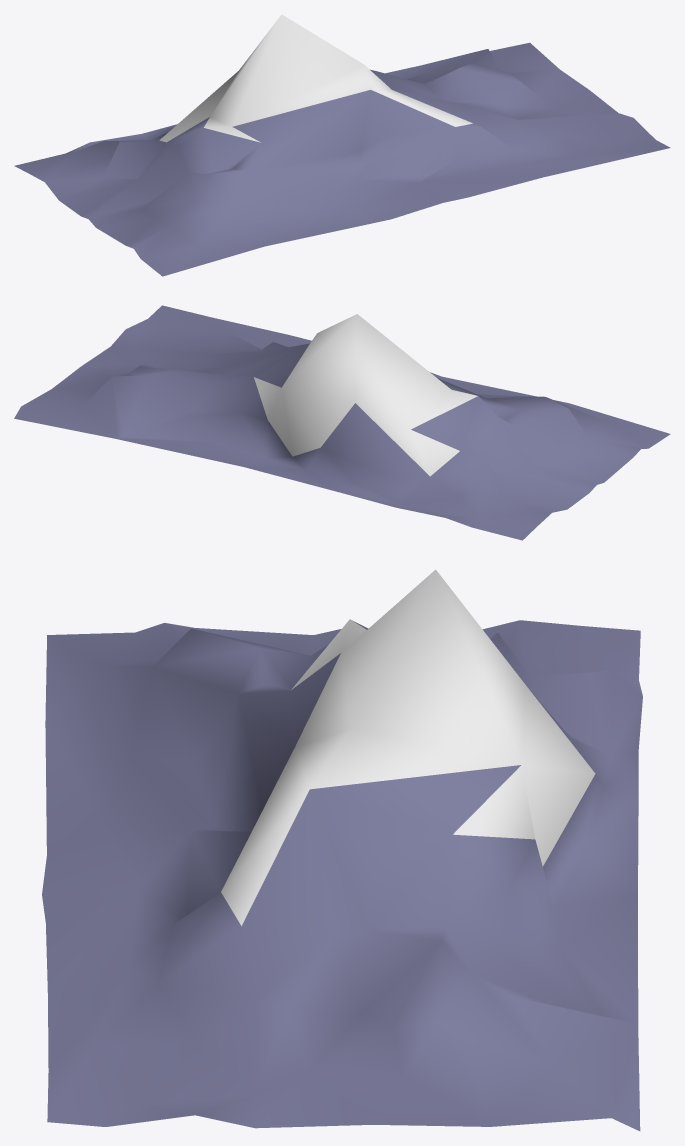
File: Mountain2.fbx
The picture shows the model from 3 angles, top to bottom: view 1: azimuth 30°, elevation 25°; view 2: azimuth 150°, elevation 25°; view 3: azimuth 270°, elevation 25°; orthographic projection. The views are drawn at different scales.
Visible parts, largest first — view 1: Mountain2; view 2: Mountain2; view 3: Mountain2.
Boxes of the visible parts, bbox=[...] form: Mountain2: bbox=[14, 14, 670, 276]; Mountain2: bbox=[14, 305, 670, 540]; Mountain2: bbox=[42, 569, 642, 1131].
Size of the model in its own units: 401 by 105 by 205.
